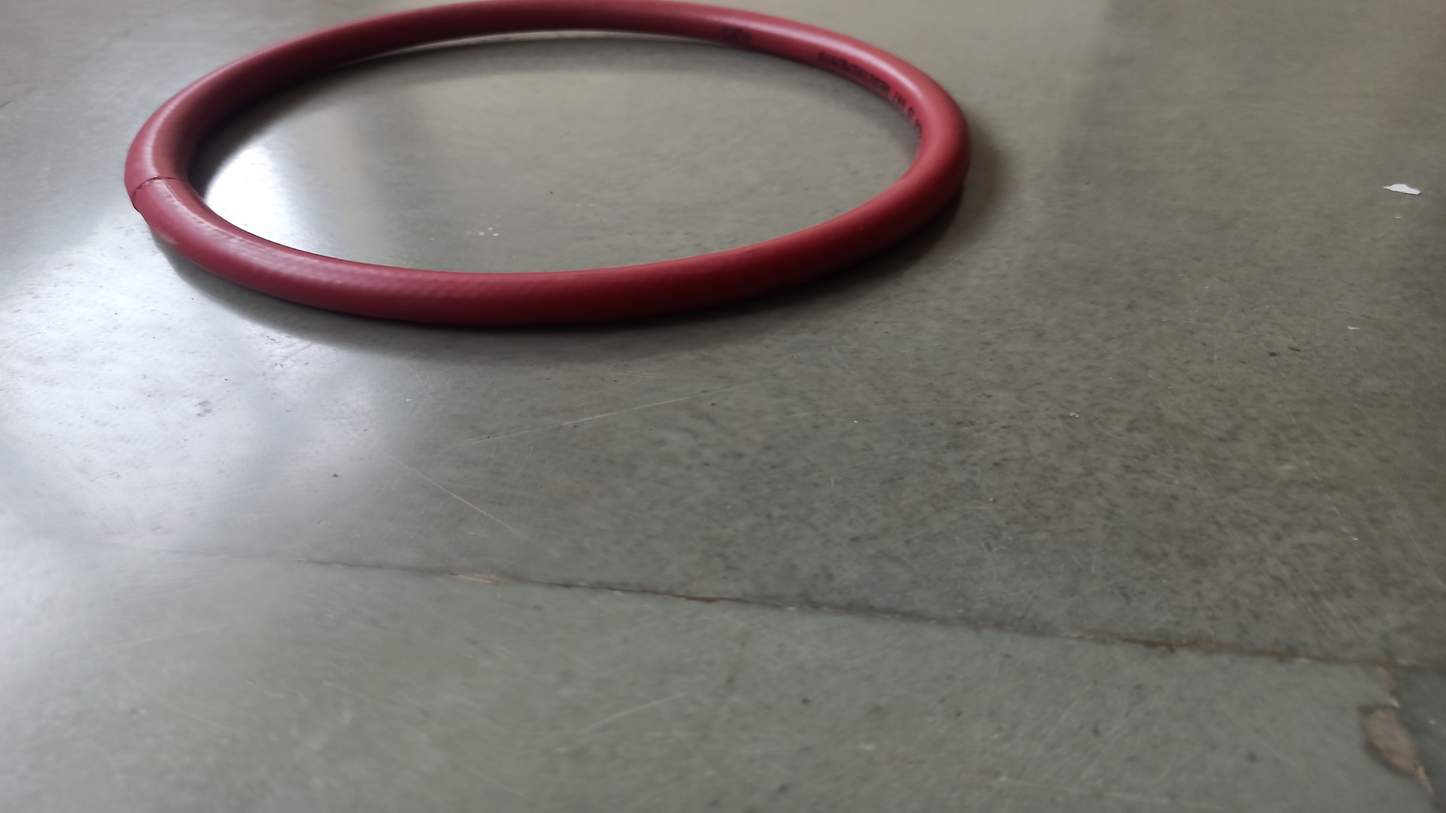Red ring: (118, 1, 972, 326)
